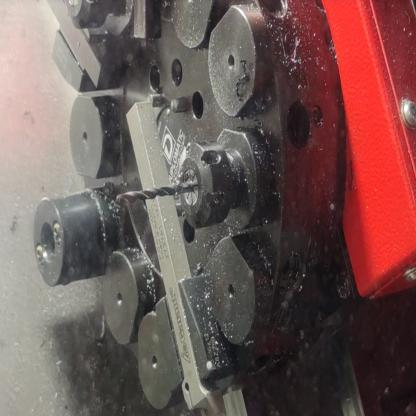bit: (123, 89, 252, 416), (42, 0, 124, 96)
